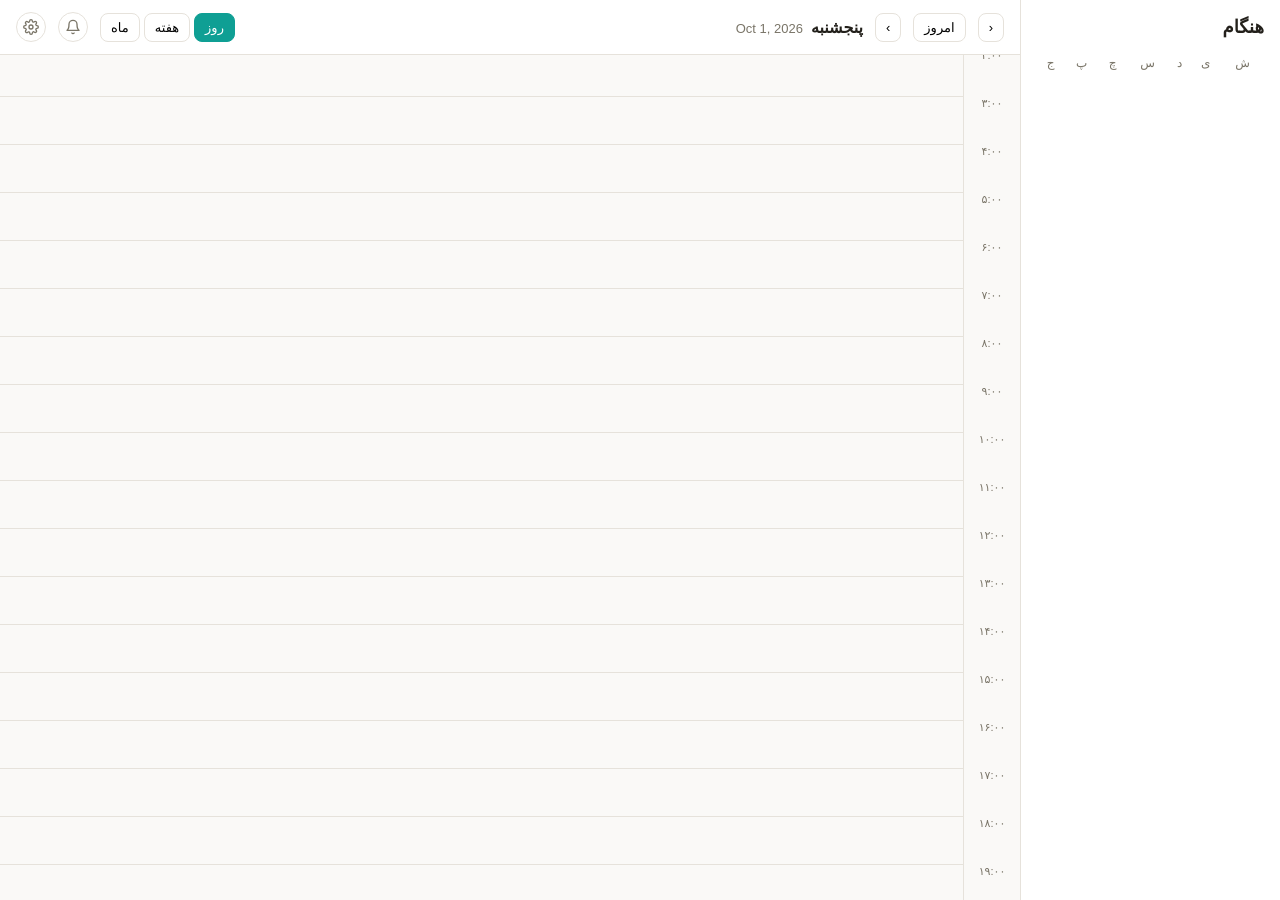
Test case: Notification bell — empty › shows no badge, and an explanatory empty state when opened
(page scrolled)
What coordinates should you click on to do the following:
click the button named "اعلان‌ها"
I would click on:
 (73, 27)
Its box is [58,12,88,42].
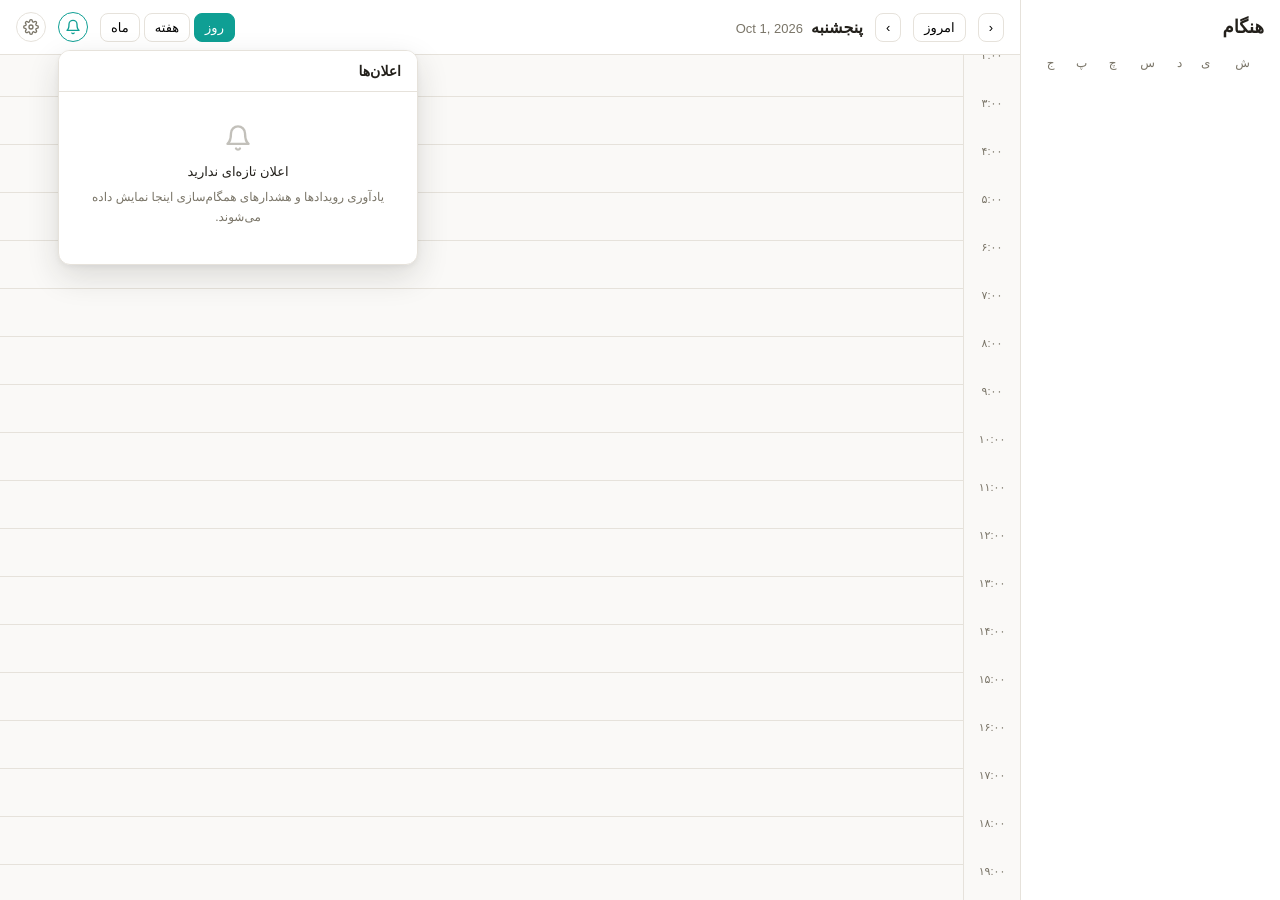
expect the text "اعلان تازه‌ای ندارید" is shown: met, box [187,164,288,179]
